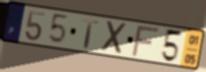5: (161, 27, 184, 64), (24, 9, 47, 42), (48, 13, 70, 46)
F: (130, 25, 162, 58)
T: (82, 17, 100, 50)
X: (100, 19, 129, 57)
